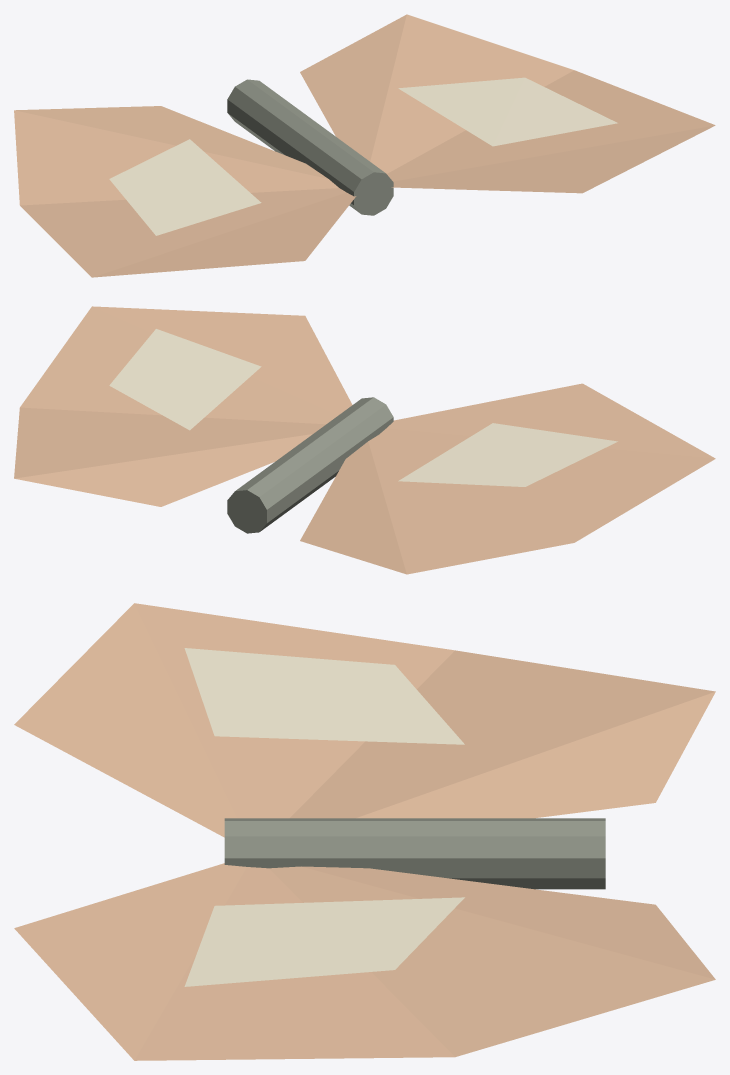
The model's file is garden_butterfly.fbx.
3 renders of one model, top to bottom at view 1: azimuth 30°, elevation 25°; view 2: azimuth 150°, elevation 25°; view 3: azimuth 270°, elevation 25°, orthographic. The views are drawn at different scales.
Parts seen in each view (by area): view 1: garden_butterfly_geometry.001, garden_butterfly_geometry, Body; view 2: garden_butterfly_geometry.001, garden_butterfly_geometry, Body; view 3: garden_butterfly_geometry, garden_butterfly_geometry.001, Body.
Part boxes in pixels (x1,y1,x2,y2): garden_butterfly_geometry.001: [300, 14, 715, 193]; garden_butterfly_geometry: [14, 106, 356, 277]; Body: [227, 79, 393, 215]; garden_butterfly_geometry.001: [14, 306, 352, 506]; garden_butterfly_geometry: [300, 383, 715, 574]; Body: [227, 397, 393, 533]; garden_butterfly_geometry: [14, 603, 715, 837]; garden_butterfly_geometry.001: [14, 863, 715, 1060]; Body: [224, 818, 605, 889].
Bounding box in the file's own units: 0.54 × 0.038 × 0.35.
